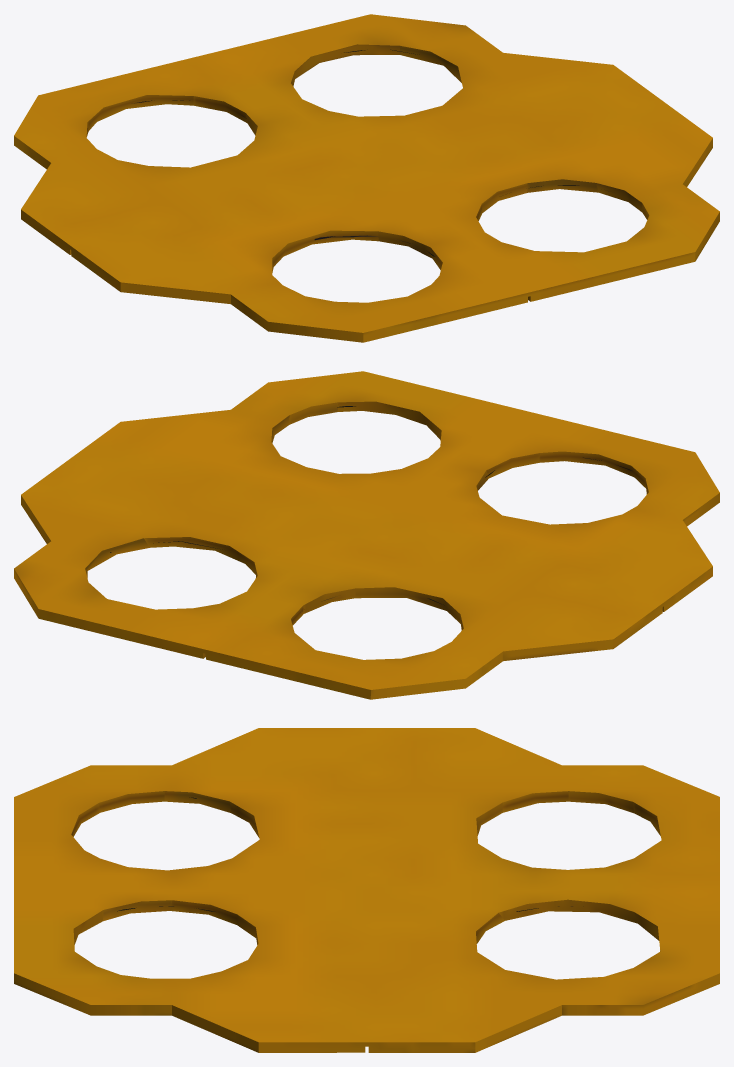
The model's file is SM_Mod05Ceiling01.gltf.
3 views of the same model, one above another, from view 1: azimuth 30°, elevation 25°; view 2: azimuth 150°, elevation 25°; view 3: azimuth 270°, elevation 25° (orthographic). The views are drawn at different scales.
Parts seen in each view (by area): view 1: SM_Mod05Ceiling01; view 2: SM_Mod05Ceiling01; view 3: SM_Mod05Ceiling01.
Boxes of the visible parts, bbox=[...] form: SM_Mod05Ceiling01: bbox=[14, 14, 719, 342]; SM_Mod05Ceiling01: bbox=[14, 371, 719, 699]; SM_Mod05Ceiling01: bbox=[14, 728, 719, 1052].
Bounding box in the file's own units: 5.39 × 0.0874 × 5.12.
Materials: 1 (1 with a texture image).
